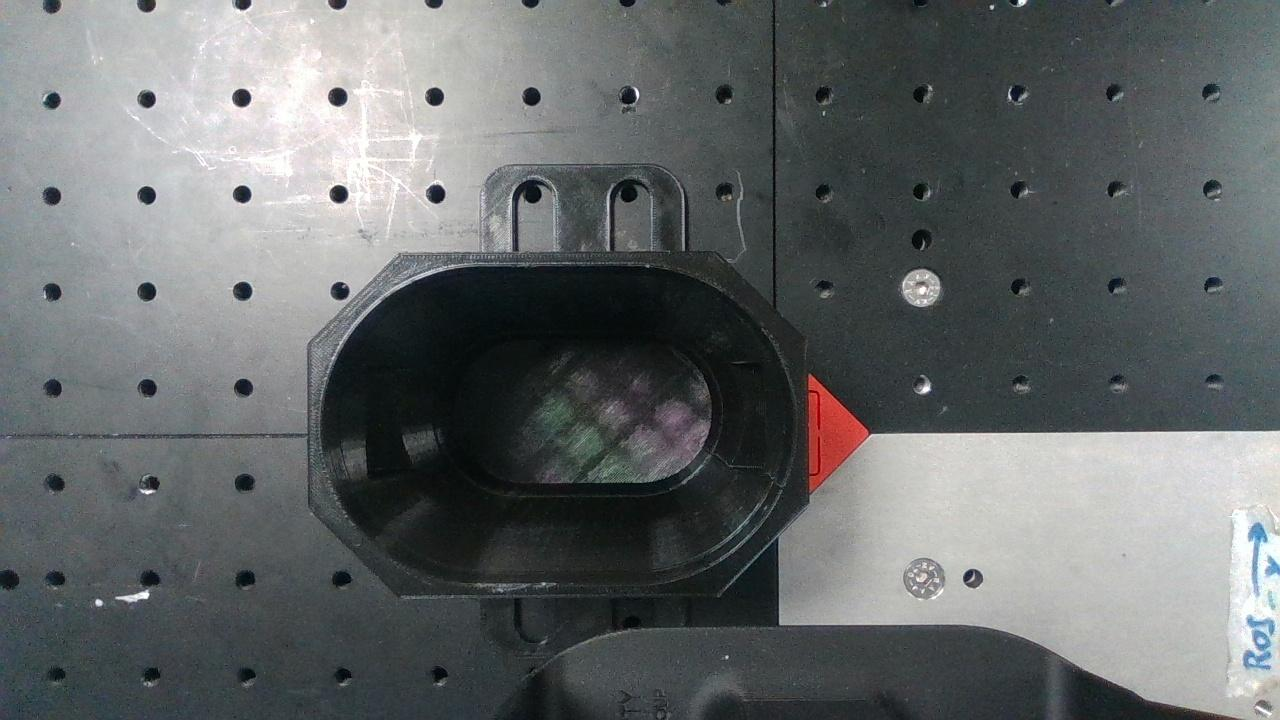small_interface: (302, 252, 811, 600)
